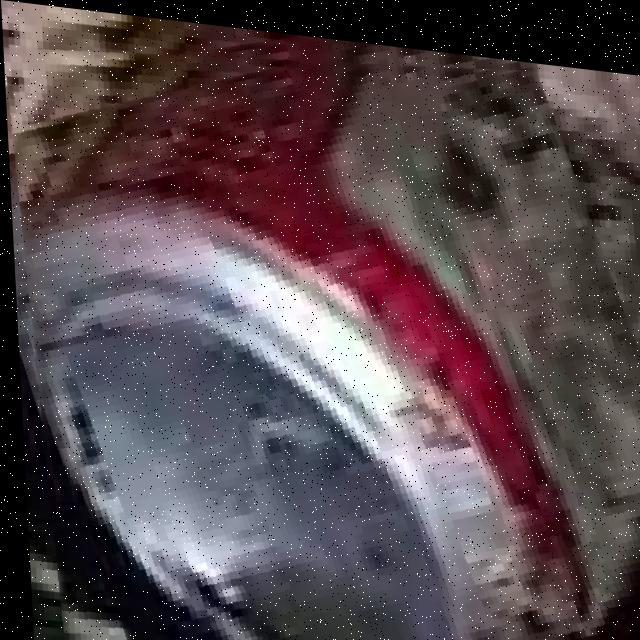can: (16, 49, 640, 640)
